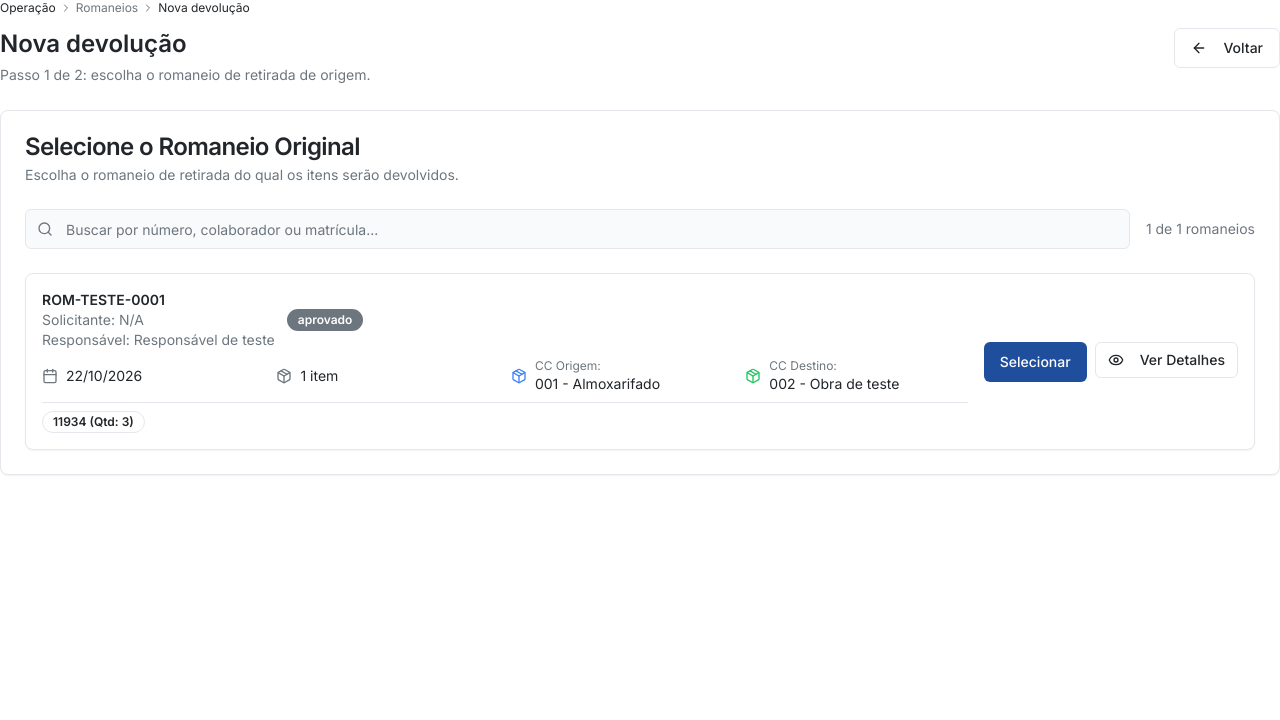
Test case: Ver Detalhes abre os itens da retirada sem selecionar ou movimentar o romaneio
Click the button "Ver Detalhes".
click(1166, 360)  # box [1095, 342, 1238, 378]
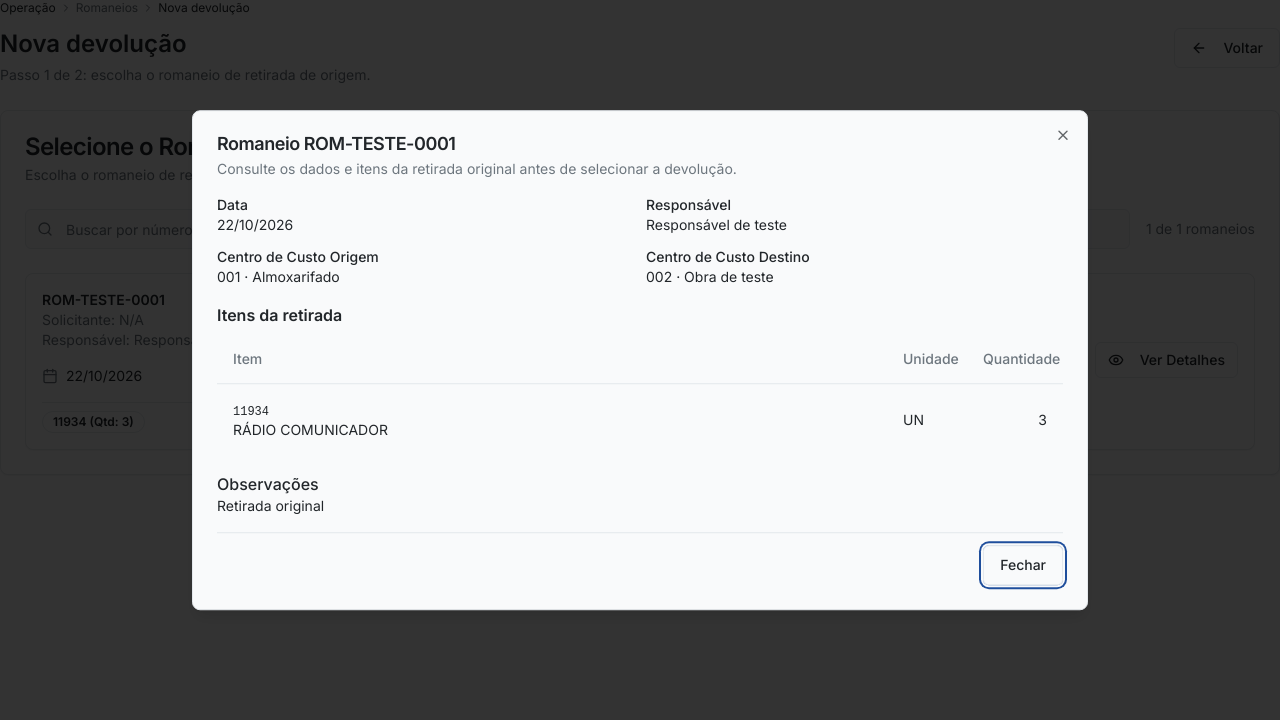
Expected: the dialog "Romaneio ROM-TESTE-0001" is shown, [192, 110, 1088, 610]
Expected: the cell "11934 RÁDIO COMUNICADOR" is shown, [217, 383, 887, 456]
Expected: the cell "UN" is shown, [887, 383, 967, 456]
Click the button "Fechar".
click(1023, 565)  # box [983, 545, 1063, 585]
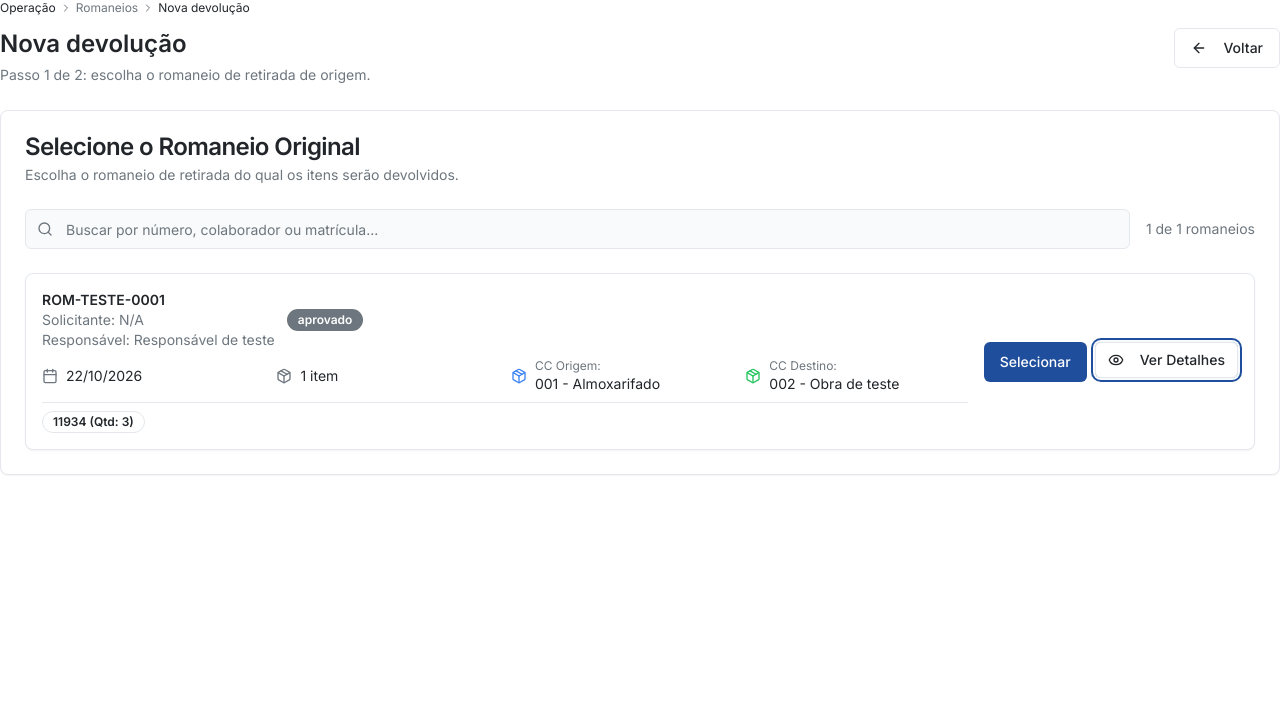
Expected: the button "Selecionar" is shown, [984, 342, 1087, 382]
Expected: the dialog is gone
